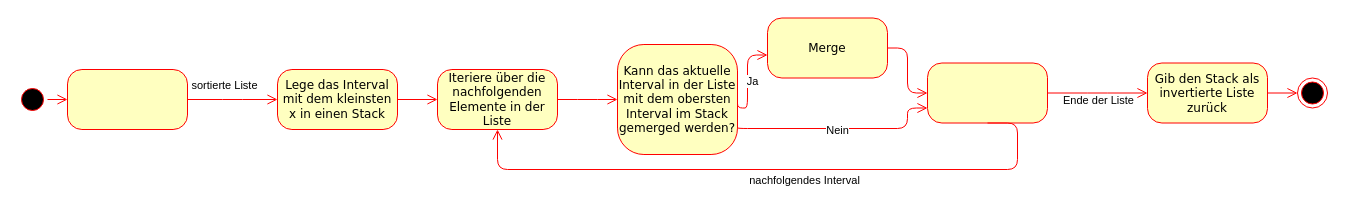
Image size: 1345x203. Some labels were removed from this diagram. The centre of each missing label's shape, as x and y in pixels:
Push das aktuelle interval auf den Stack: point (987, 92)
Sortiere die Liste nach dem ersten Arrayelement x: point (127, 99)
